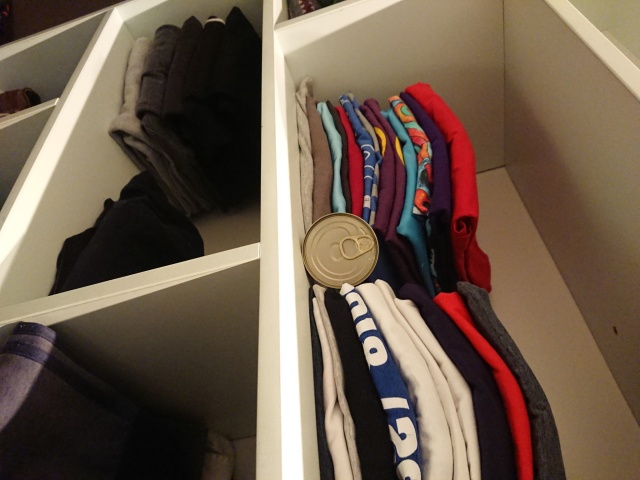Gavrilovic Pork Liver Pate 100g: (300, 210, 381, 291)
